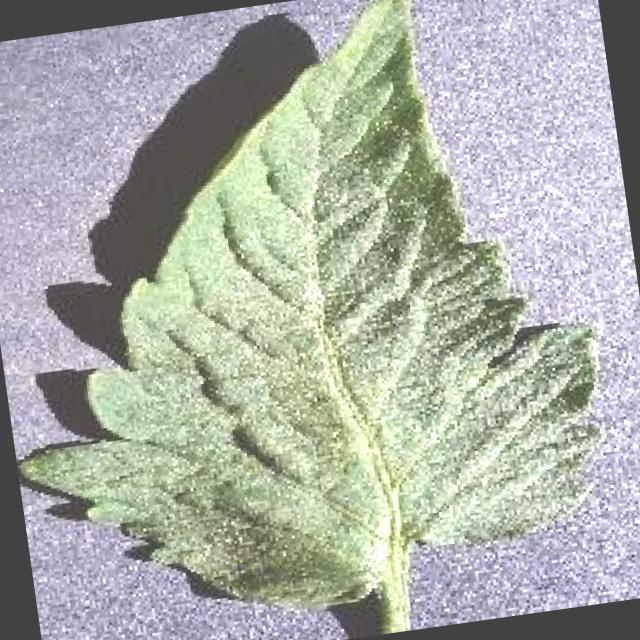healthy: (18, 0, 609, 634)
